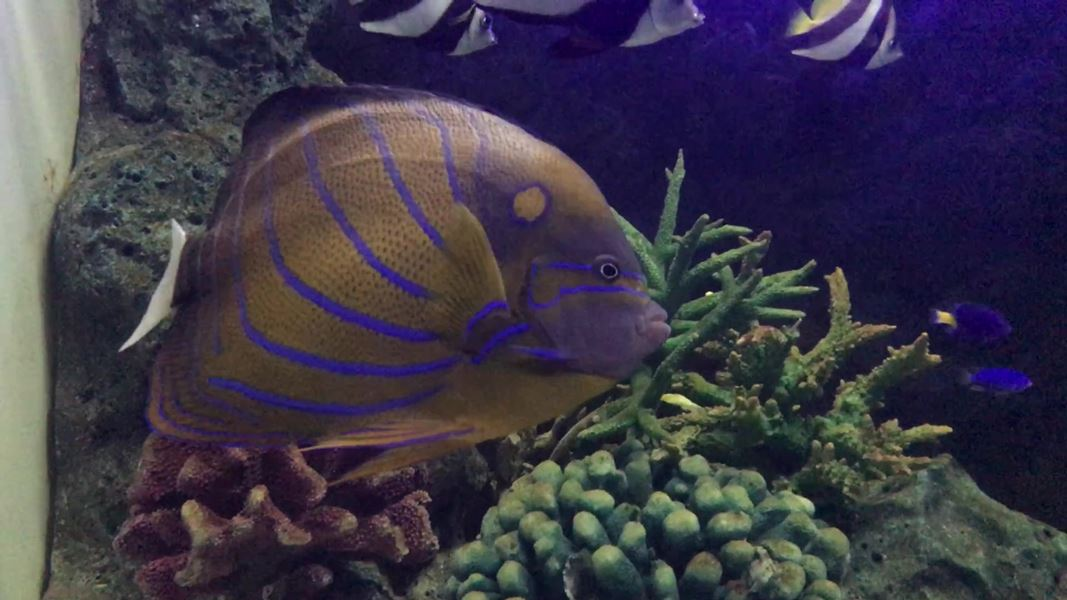Blue ring angelfish: (103, 78, 673, 488)
